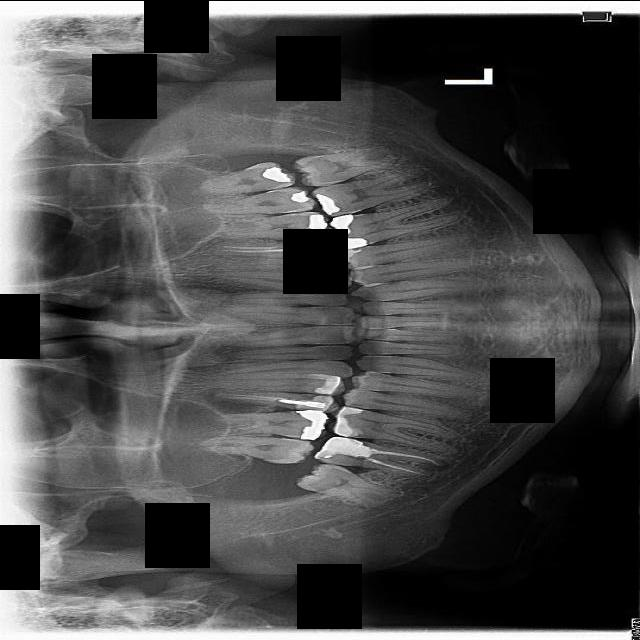71: (279, 395, 325, 408), (284, 242, 333, 248)
74: (363, 454, 427, 478), (369, 446, 440, 466), (227, 393, 281, 401), (224, 248, 287, 252), (223, 246, 274, 248)
NucleOSS Implant: (328, 211, 368, 252), (296, 409, 330, 441), (312, 188, 341, 218), (298, 212, 328, 240), (259, 162, 295, 185), (289, 188, 313, 206)
Sterngold Implant: (348, 401, 368, 408), (299, 393, 318, 399)
Straumann Implant: (315, 435, 375, 458), (311, 246, 344, 275), (333, 406, 363, 437), (310, 371, 343, 397), (300, 237, 335, 259), (295, 393, 335, 411), (343, 248, 362, 260)
